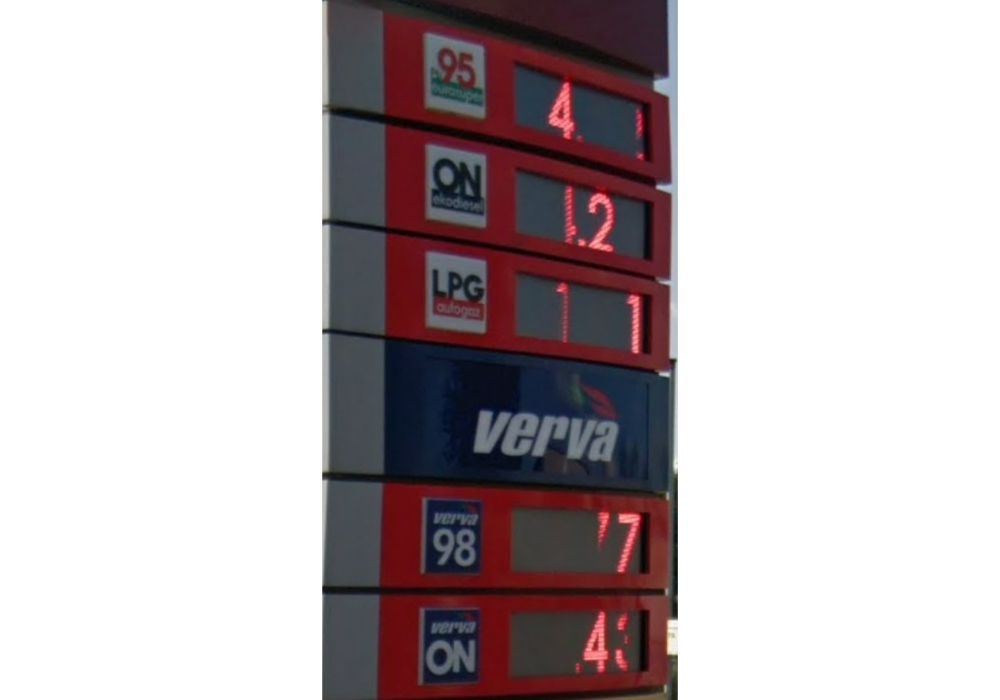LPG: (424, 245, 488, 337)
ON: (425, 145, 490, 228), (416, 604, 480, 685)
PB95: (420, 31, 489, 123)
PB98: (419, 492, 484, 576)
